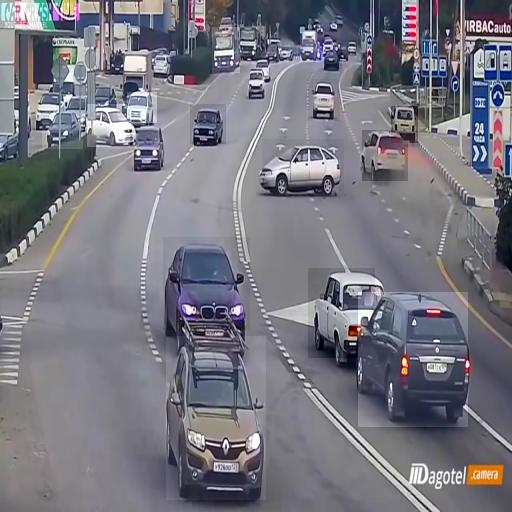小汽车: (166, 336, 266, 500), (358, 292, 468, 427), (163, 237, 250, 330), (308, 268, 375, 358), (262, 139, 344, 194), (362, 130, 408, 181), (87, 104, 135, 147), (42, 112, 83, 149), (130, 124, 164, 168), (190, 104, 226, 144), (308, 79, 340, 121), (212, 27, 240, 73), (34, 87, 62, 126), (391, 106, 418, 143), (128, 92, 158, 123), (247, 67, 268, 99), (151, 48, 172, 78), (300, 32, 317, 62), (324, 46, 342, 69)
